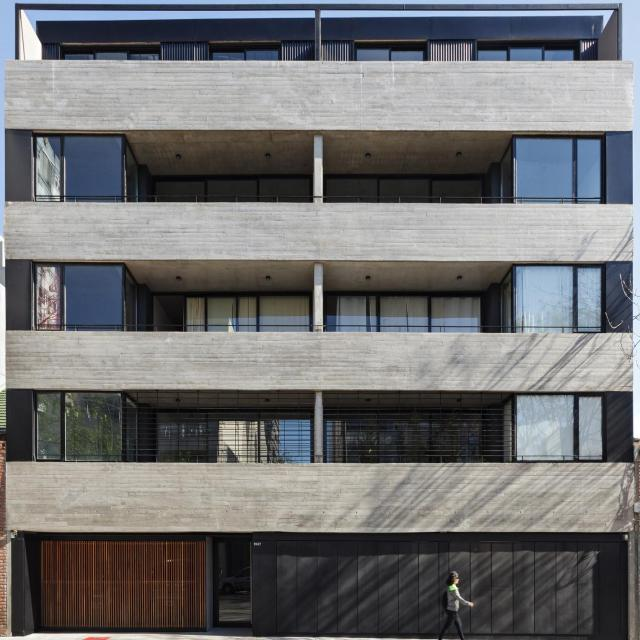Railing: (282, 42, 353, 64), (428, 41, 478, 62), (162, 41, 212, 59)
door: (214, 538, 252, 625)
wall: (7, 2, 634, 635)
windows: (328, 418, 508, 462), (158, 410, 313, 460), (37, 390, 140, 461), (36, 131, 139, 201), (505, 391, 607, 461), (502, 264, 604, 333), (501, 134, 605, 201), (327, 290, 484, 334), (153, 292, 313, 331), (66, 262, 139, 330), (156, 173, 315, 201), (326, 175, 484, 199), (35, 263, 69, 330), (215, 44, 280, 60), (481, 46, 575, 57), (356, 46, 426, 60), (64, 51, 161, 59)
